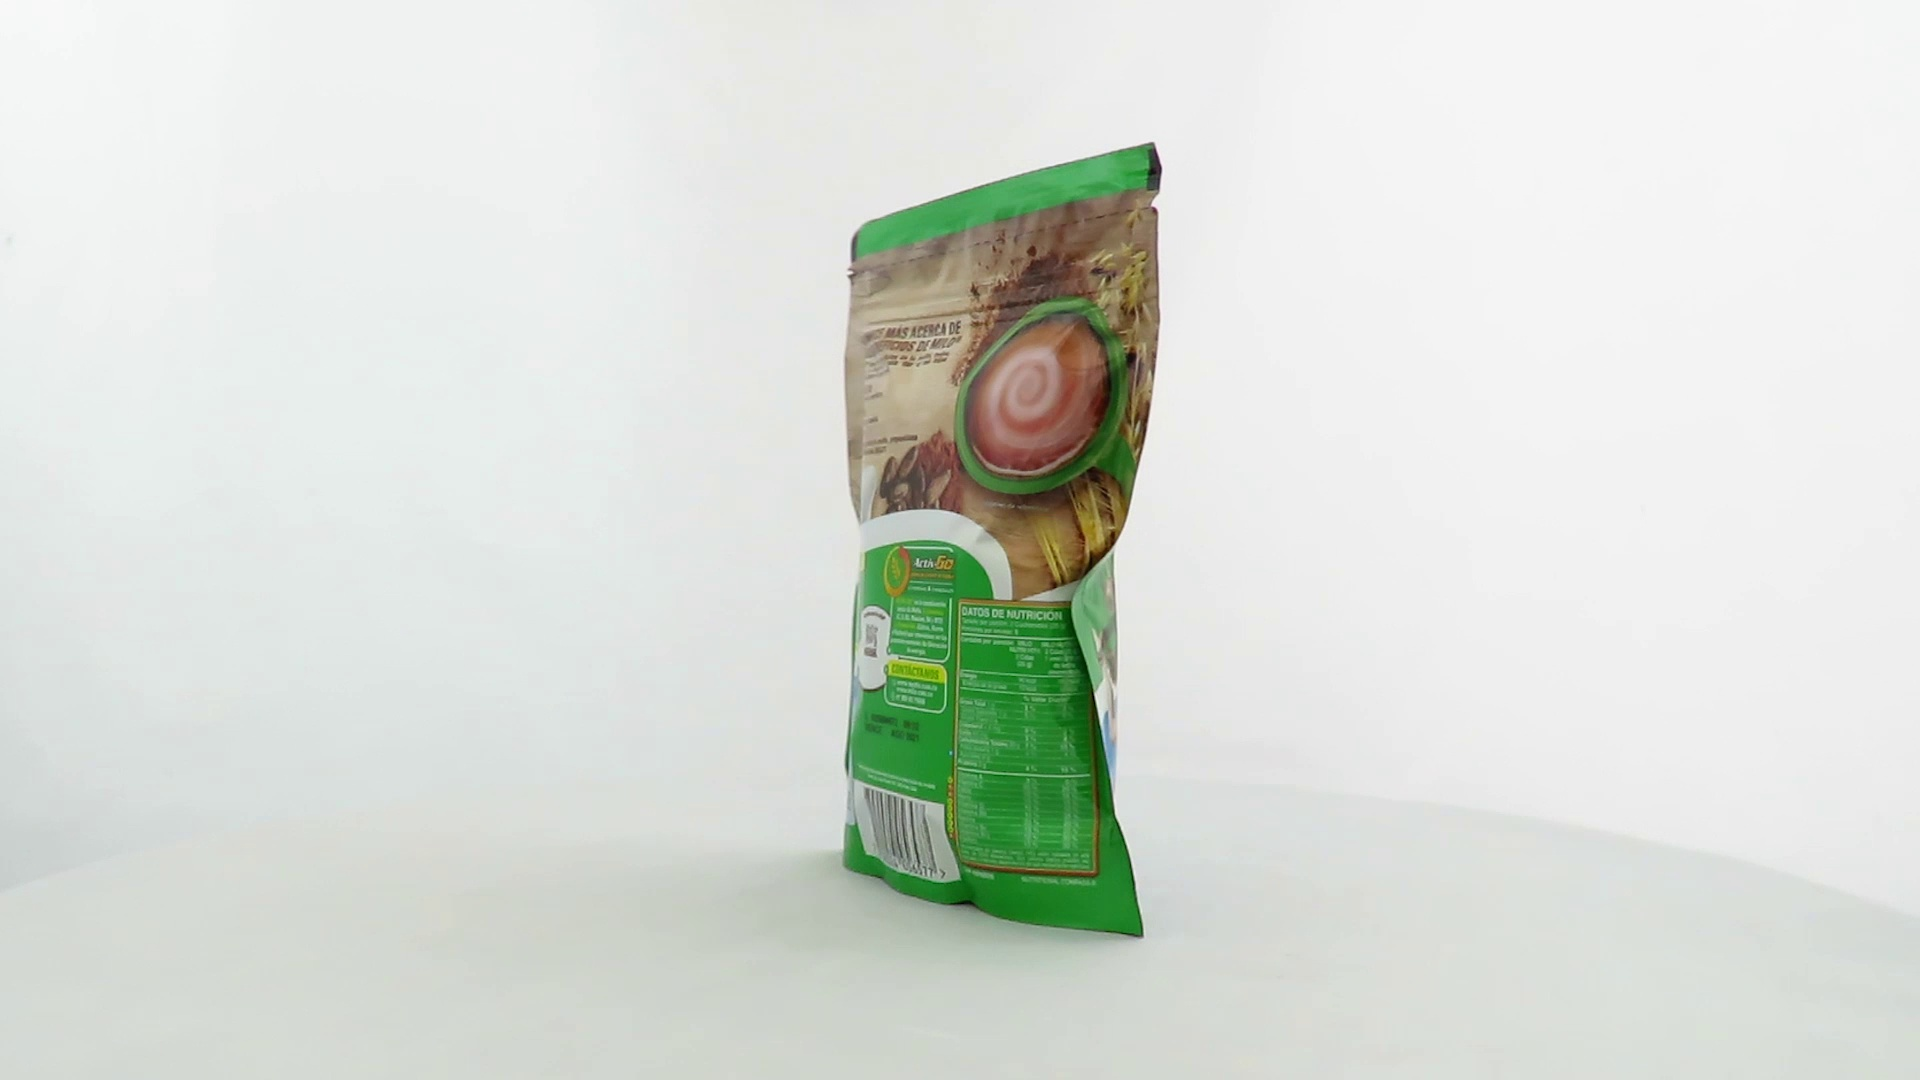COL0170205DYP20000: (837, 137, 1168, 945)
